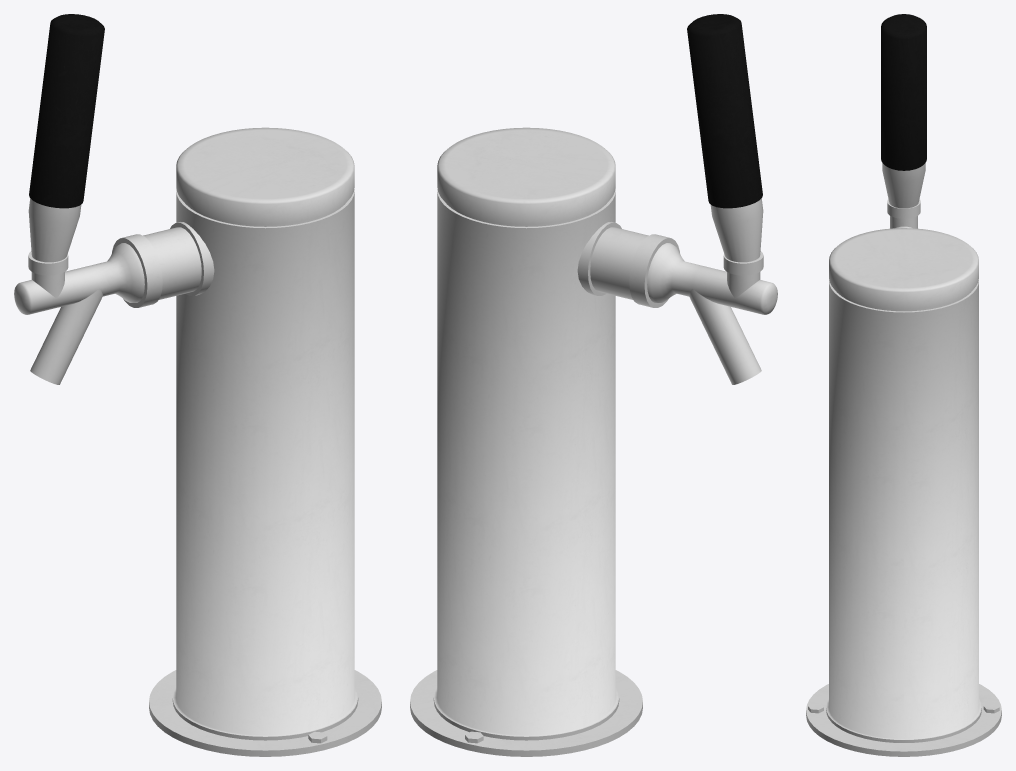
Rendered from BeerTap.FBX.
3 views of the same model, side by side, from view 1: azimuth 30°, elevation 25°; view 2: azimuth 150°, elevation 25°; view 3: azimuth 270°, elevation 25° (orthographic). The views are drawn at different scales.
Visible parts, largest first — view 1: BeerTap; view 2: BeerTap; view 3: BeerTap.
Part boxes in pixels (box(x1,y1,x2,y2)): BeerTap: box(14, 14, 381, 756); BeerTap: box(410, 14, 777, 756); BeerTap: box(806, 14, 1001, 756).
Size of the model in its own units: 7.6 by 15.35 by 4.42.
Materials: 1 (1 with a texture image).
